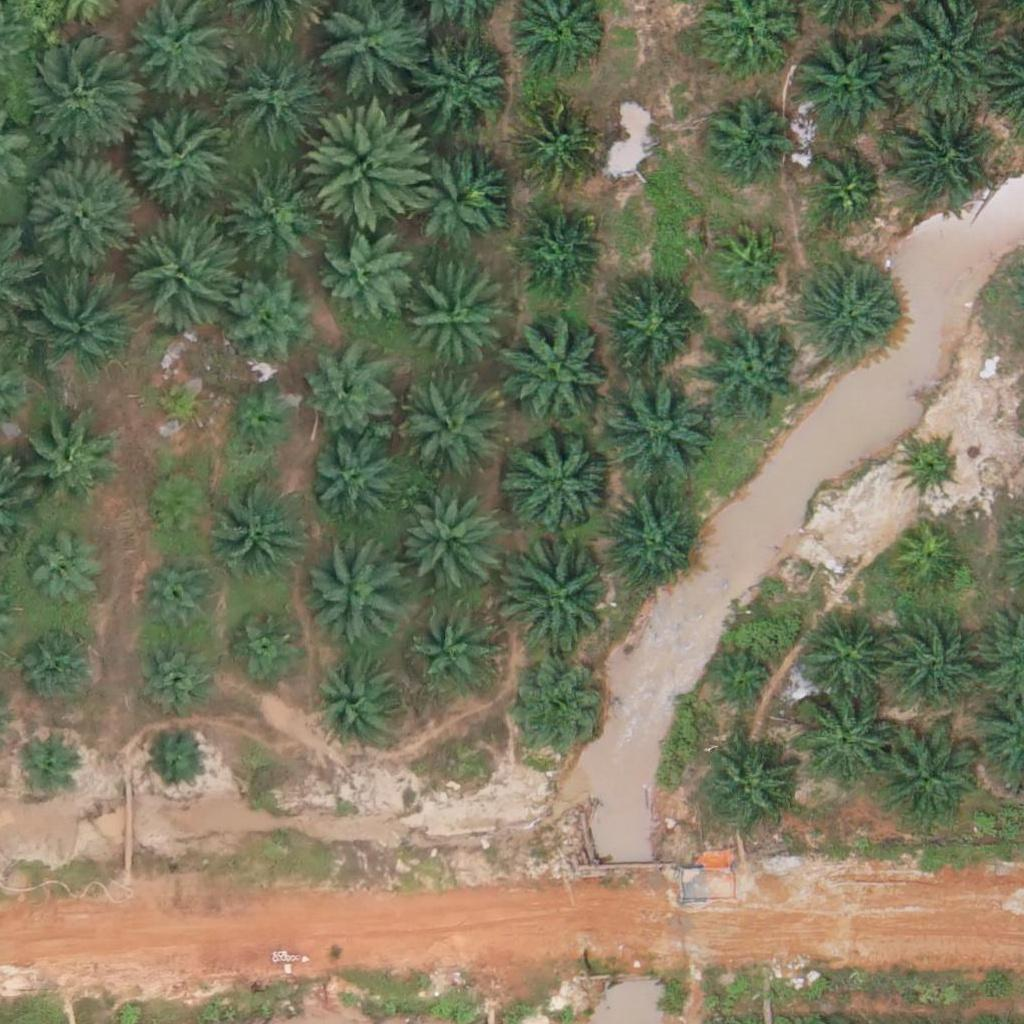Kelapa_Sawit: (309, 104, 434, 230), (871, 724, 984, 837), (600, 370, 713, 483), (501, 314, 614, 427), (505, 425, 618, 538), (217, 42, 330, 155), (124, 97, 237, 210), (21, 158, 134, 271), (21, 260, 133, 374), (891, 3, 1003, 116), (504, 537, 616, 650), (122, 215, 234, 328), (19, 49, 131, 162), (791, 33, 891, 134), (882, 619, 982, 720), (797, 610, 897, 711), (599, 491, 699, 592), (699, 736, 799, 837), (507, 664, 607, 765), (418, 34, 518, 135), (404, 271, 504, 372), (399, 383, 499, 484), (395, 491, 495, 592), (221, 163, 321, 264), (223, 264, 323, 365), (15, 412, 115, 513), (214, 478, 314, 579), (889, 108, 989, 208), (799, 268, 899, 368), (792, 690, 892, 790), (705, 321, 805, 421), (403, 141, 503, 241), (306, 543, 406, 643), (699, 93, 787, 181), (610, 288, 698, 376), (510, 99, 598, 187), (303, 351, 391, 439), (128, 634, 216, 722), (306, 438, 393, 527), (513, 207, 600, 295), (413, 609, 500, 697), (315, 658, 402, 746), (321, 231, 408, 319), (138, 553, 225, 641), (21, 536, 96, 612), (23, 624, 98, 700), (222, 384, 297, 460), (711, 224, 786, 300), (141, 471, 216, 547), (229, 606, 304, 681), (806, 150, 881, 225), (890, 524, 965, 599), (705, 648, 780, 723), (899, 437, 962, 500), (12, 732, 75, 795), (145, 728, 207, 791), (148, 372, 210, 435)
